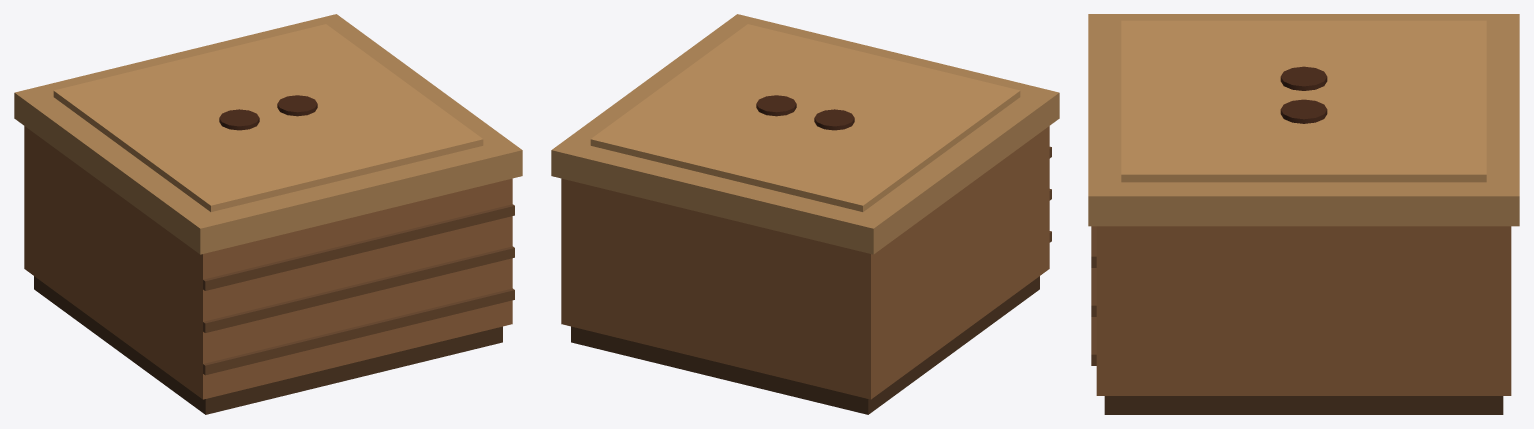
Rendered from k_crate_2.glb.
3 renders of one model, left to right at view 1: azimuth 30°, elevation 25°; view 2: azimuth 150°, elevation 25°; view 3: azimuth 270°, elevation 25°, orthographic. The views are drawn at different scales.
Visible parts, largest first — view 1: piece; view 2: piece; view 3: piece.
Boxes of the visible parts, x1,y1,x2,y2 form: piece: (14,14,522,414); piece: (551,14,1059,414); piece: (1088,14,1519,414).
Bounding box in the file's own units: 1.04 × 0.6325 × 1.04.
